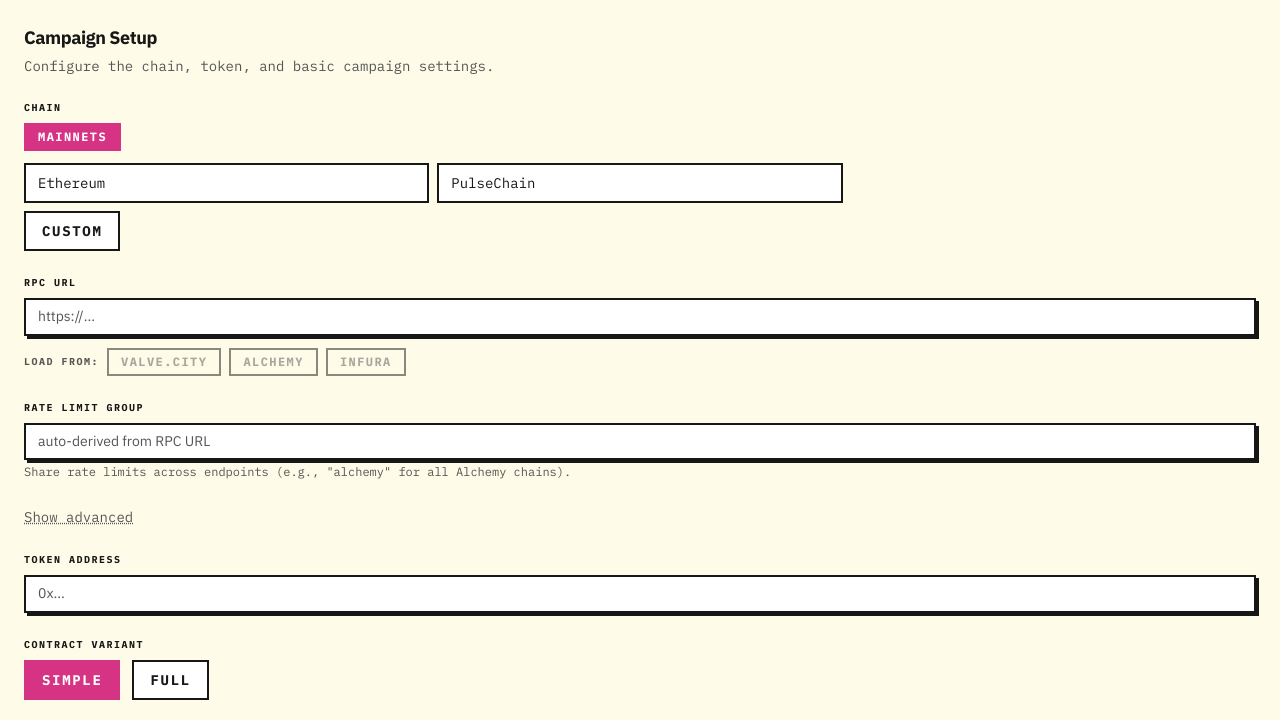
CampaignStep › shows explorer fields when Show advanced is clicked
The width and height of the screenshot is (1280, 720).
Click the button "Show advanced": (79, 517) [24,507,133,527]
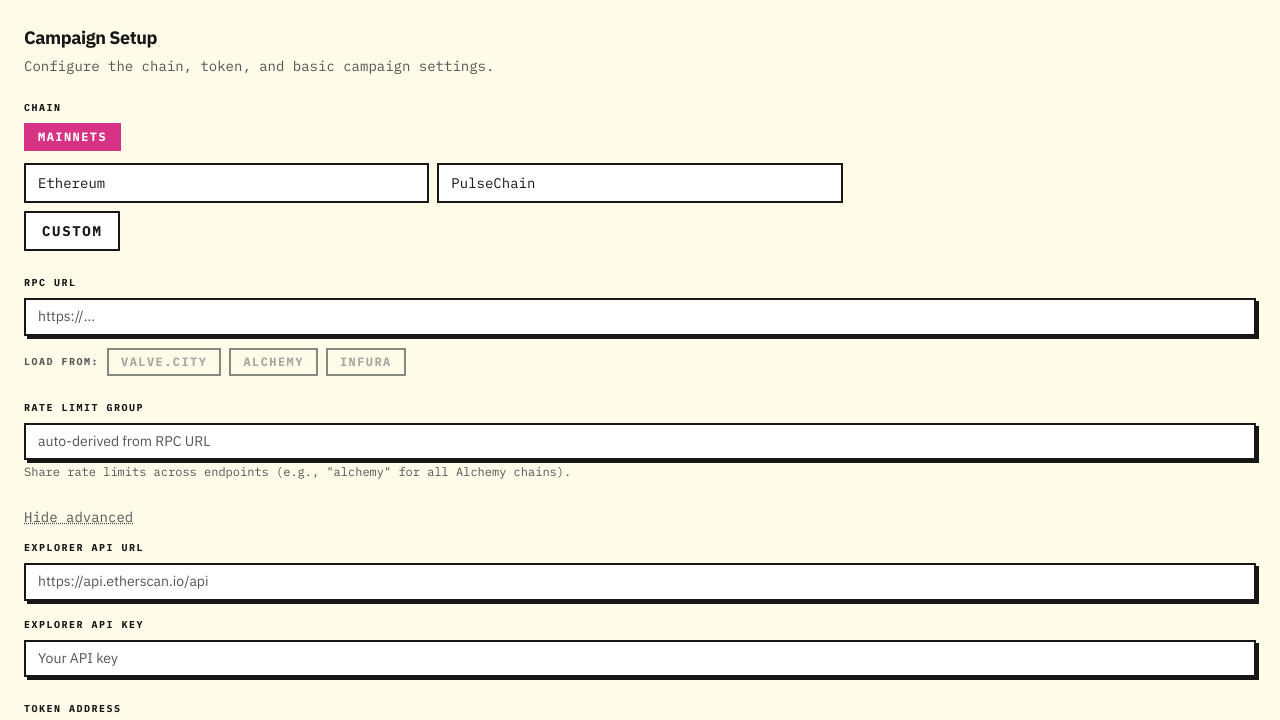
Check: the button "Hide advanced" is shown, box [24,507,133,527]
Check: the field with placeholder "https://api.etherscan.io/api" is shown, box [24,563,1256,600]
Check: the field with placeholder "Your API key" is shown, box [24,640,1256,677]
